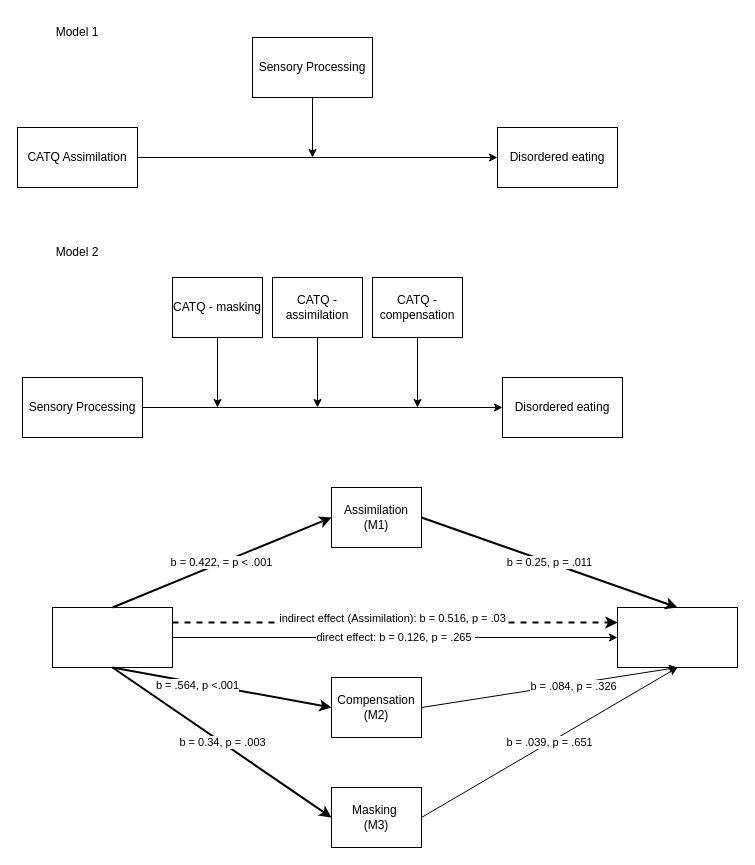
Image size: 755x865. Some labels were removed from this diagram. The shapes that lost their labels are listed below. From the top down, each one's centre as x and y in pixels, then its label:
(x=112, y=637): Sensory Processing (X)
(x=677, y=637): Eating disorder symptoms (Y)
